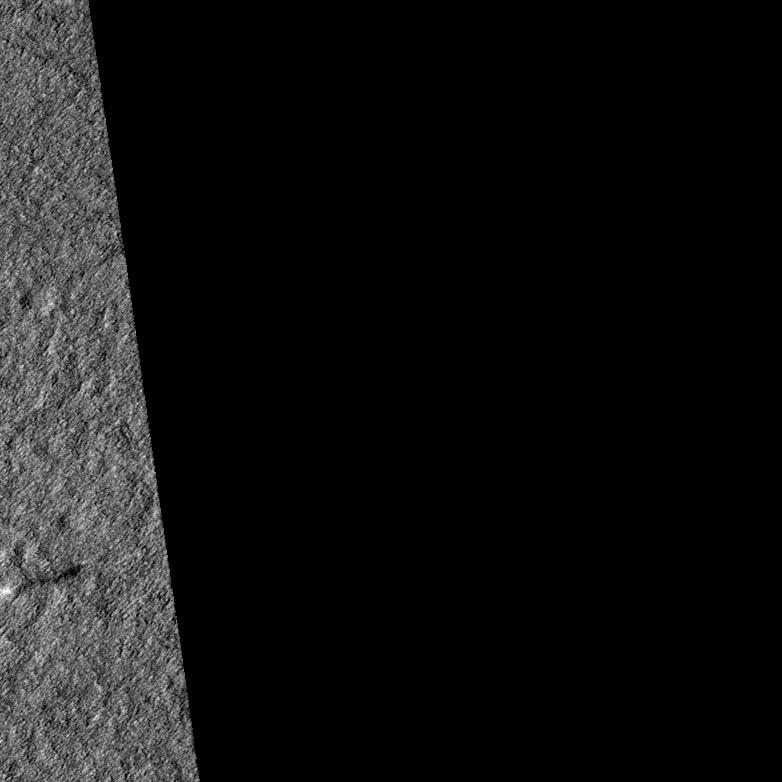dust_devil: (1, 562, 86, 604)
